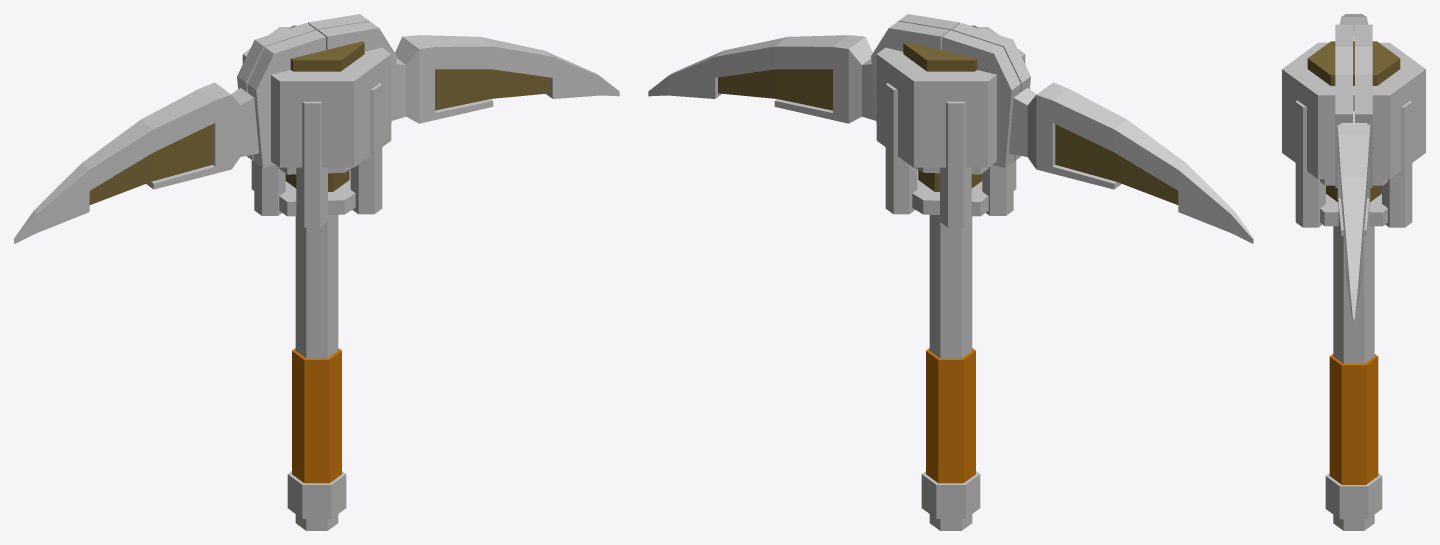
File: deep_rock_galactic_pickaxe.glb
3 views of the same model, side by side, from view 1: azimuth 30°, elevation 25°; view 2: azimuth 150°, elevation 25°; view 3: azimuth 270°, elevation 25° (orthographic). The views are drawn at different scales.
Visible parts, largest first — view 1: Object_4, Object_2, Object_3; view 2: Object_4, Object_2, Object_3; view 3: Object_4, Object_3, Object_2.
Part boxes in pixels (x1=…): Object_4: x1=14, y1=14, x2=619, y2=530; Object_2: x1=89, y1=25, x2=549, y2=204; Object_3: x1=292, y1=348, x2=341, y2=483; Object_4: x1=648, y1=14, x2=1253, y2=530; Object_2: x1=718, y1=25, x2=1178, y2=204; Object_3: x1=926, y1=348, x2=975, y2=483; Object_4: x1=1282, y1=14, x2=1425, y2=530; Object_3: x1=1329, y1=354, x2=1378, y2=484; Object_2: x1=1307, y1=41, x2=1400, y2=201.
Size of the model in its own units: 1.32 by 1.03 by 0.28.
